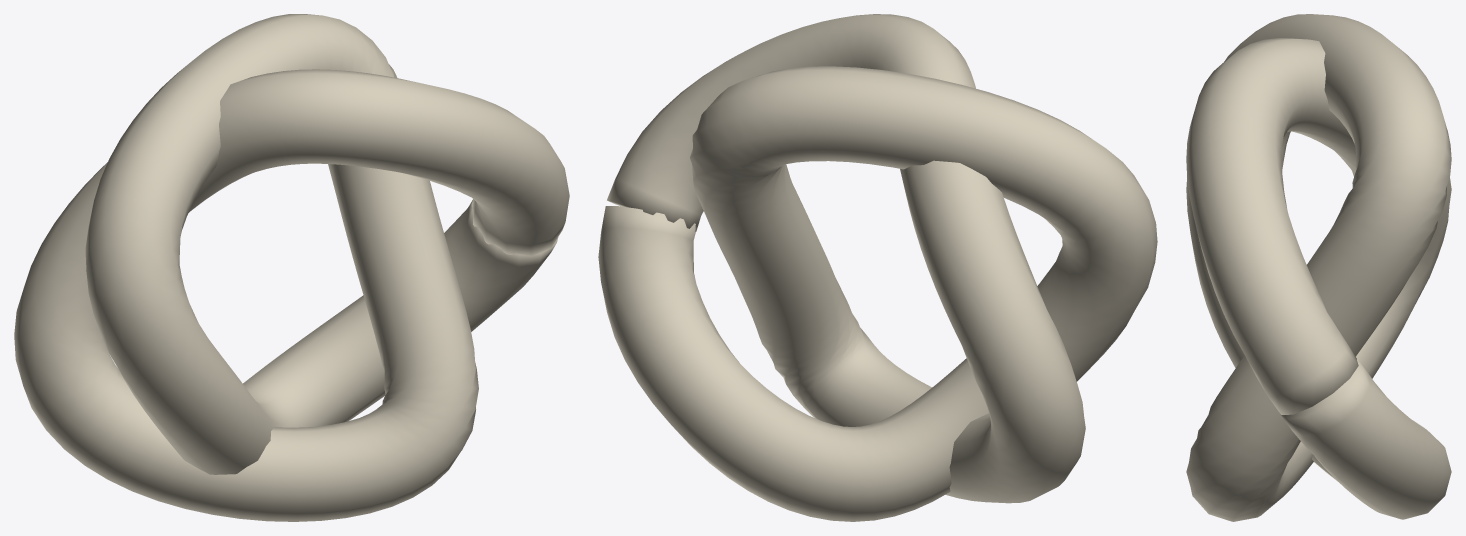
Rendered from stone_sculpture.glb.
3 renders of one model, left to right at view 1: azimuth 30°, elevation 25°; view 2: azimuth 150°, elevation 25°; view 3: azimuth 270°, elevation 25°, orthographic.
Visible parts, largest first — view 1: stone_sculpture__body; view 2: stone_sculpture__body; view 3: stone_sculpture__body.
Boxes of the visible parts, left/top/right/bottom form: stone_sculpture__body: left=14, top=14, right=569, bottom=521; stone_sculpture__body: left=598, top=14, right=1157, bottom=521; stone_sculpture__body: left=1186, top=14, right=1451, bottom=521.
Size of the model in its own units: 0.2195 by 0.186 by 0.1.
